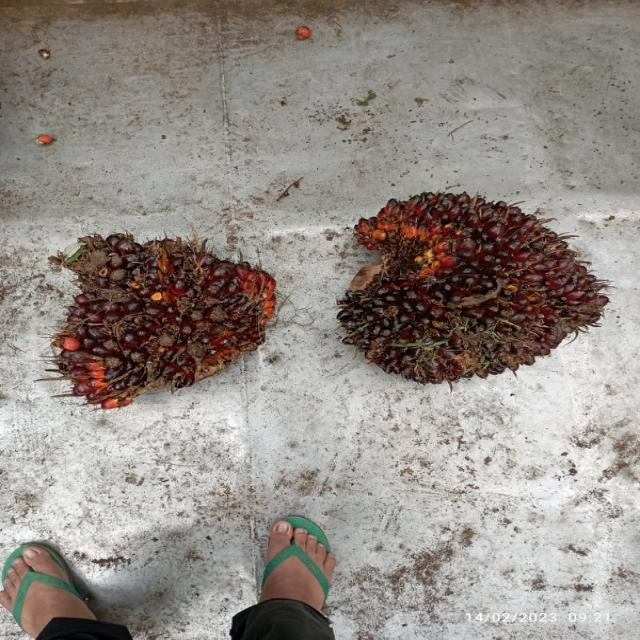fraksi 1: (340, 182, 614, 389), (42, 230, 280, 408)
